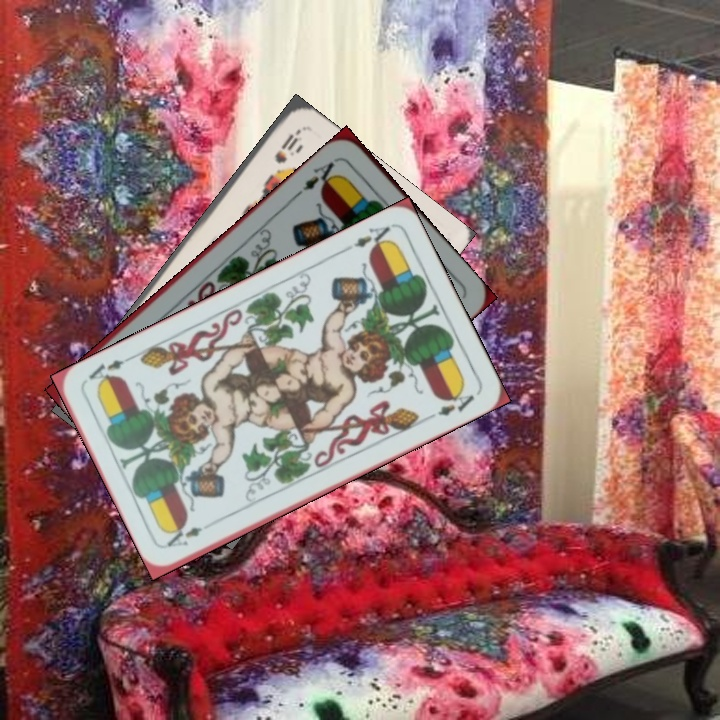EA: (293, 154, 342, 198), (340, 222, 396, 255), (162, 523, 205, 550)
S10: (270, 126, 302, 167)
